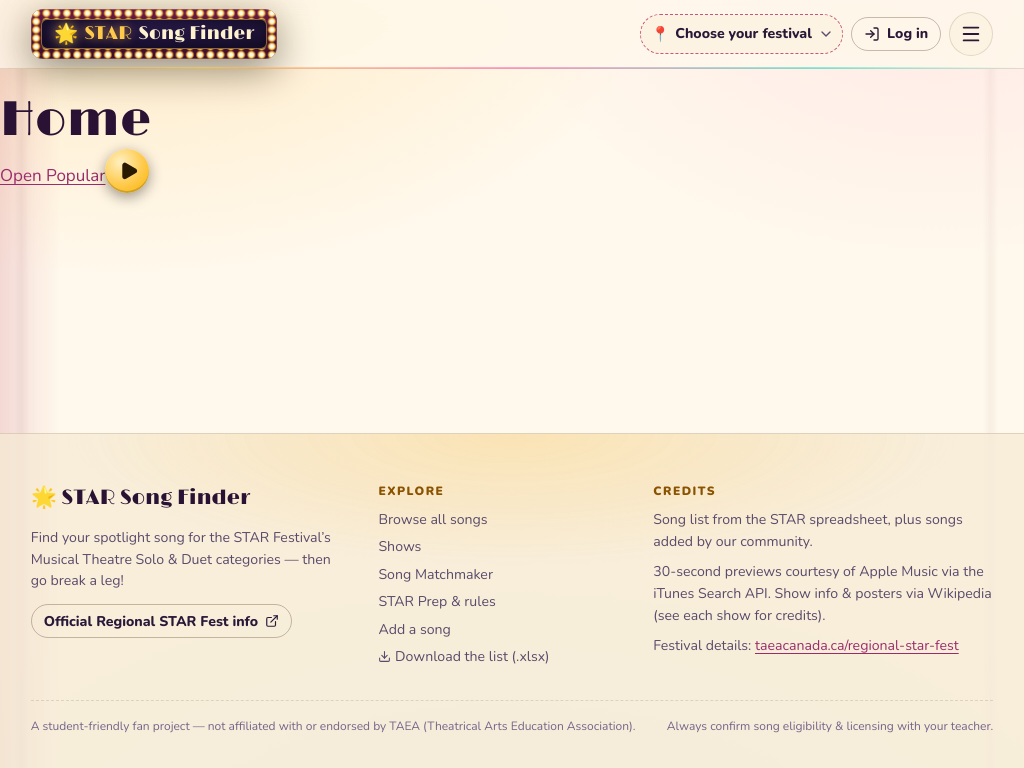
Test: Header mobile menu › Escape closes the menu and returns focus to the menu button
This screenshot has width=1024, height=768.
Click the button with test id "menu-toggle": (971, 34) x1=949 y1=12 x2=993 y2=56
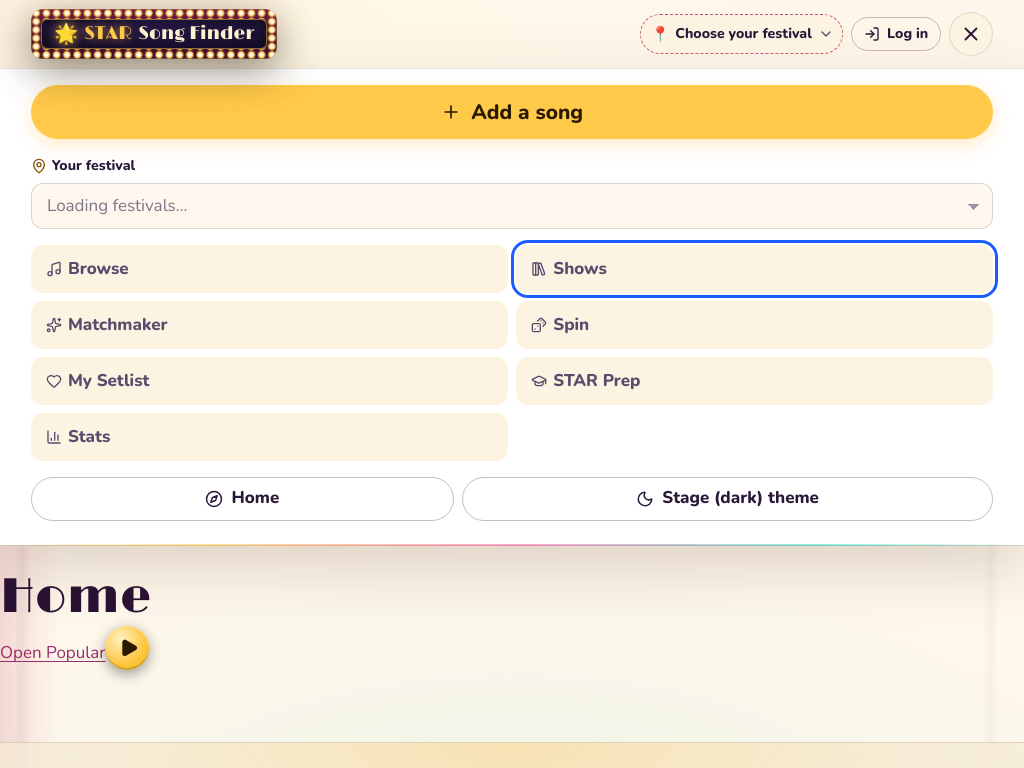
Press Escape in the link with test id "mobile-nav-shows", box x1=516 y1=245 x2=993 y2=293
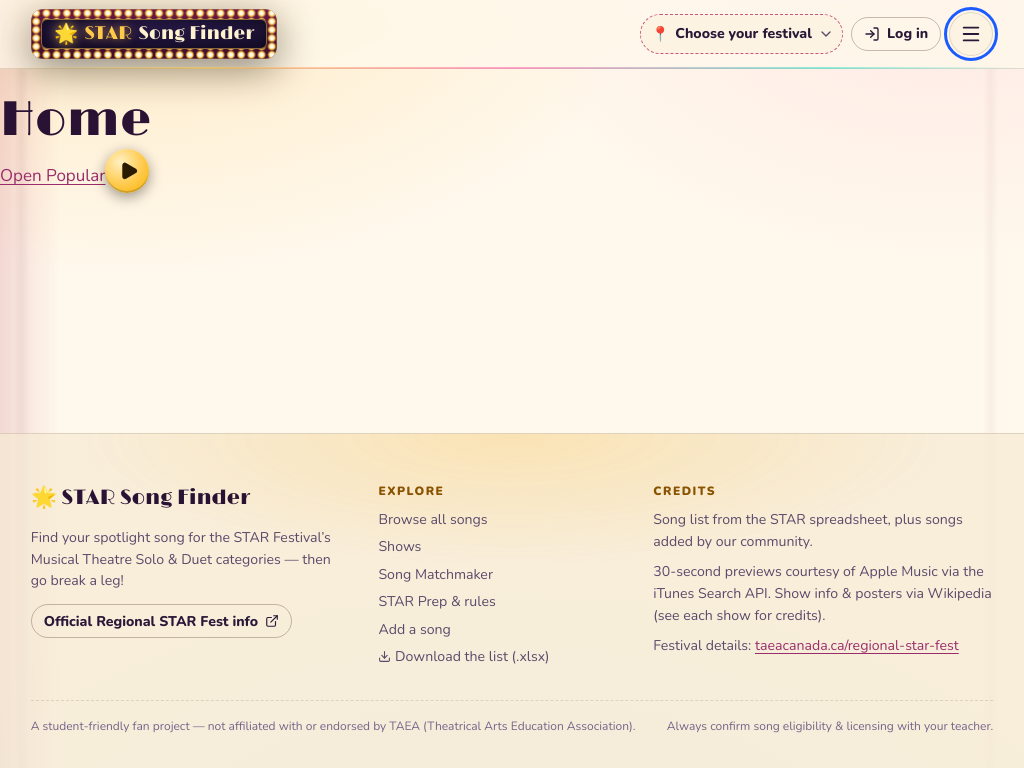
Result: the navigation bar with id "mobile-nav" is gone
